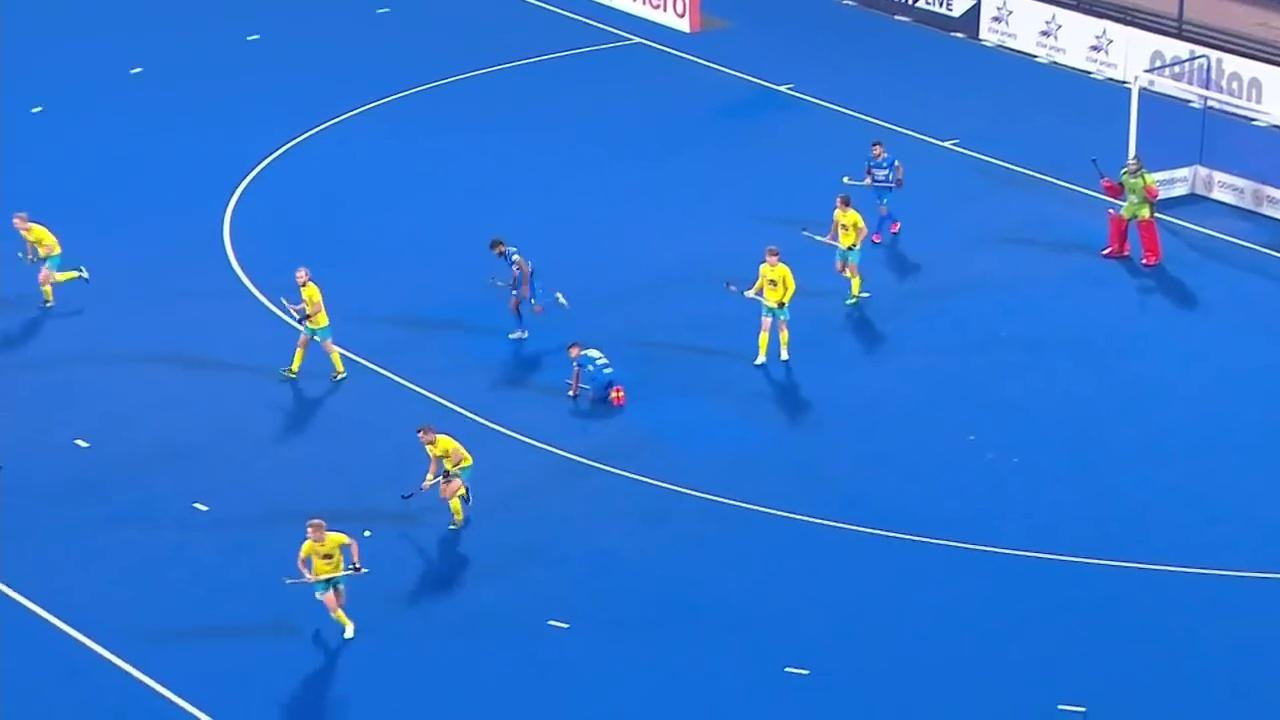ball: (360, 528, 376, 542)
